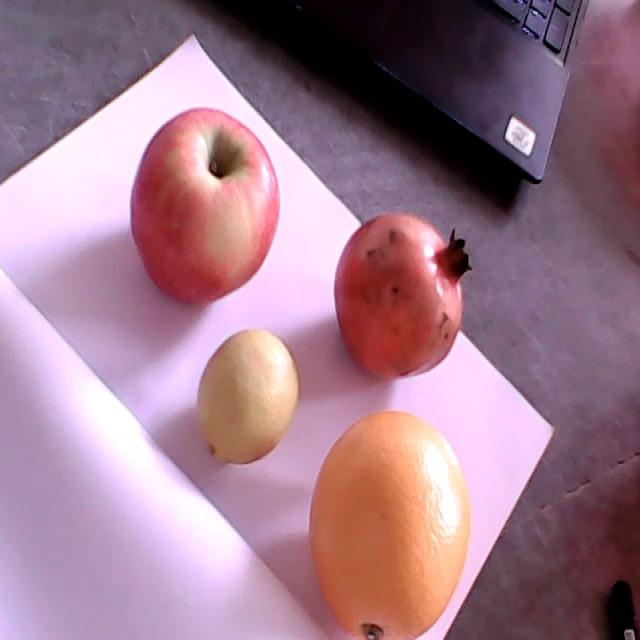apple: (130, 109, 281, 311)
lemon: (196, 330, 300, 464)
orange: (309, 409, 469, 638)
pomegranate: (333, 208, 477, 382)
